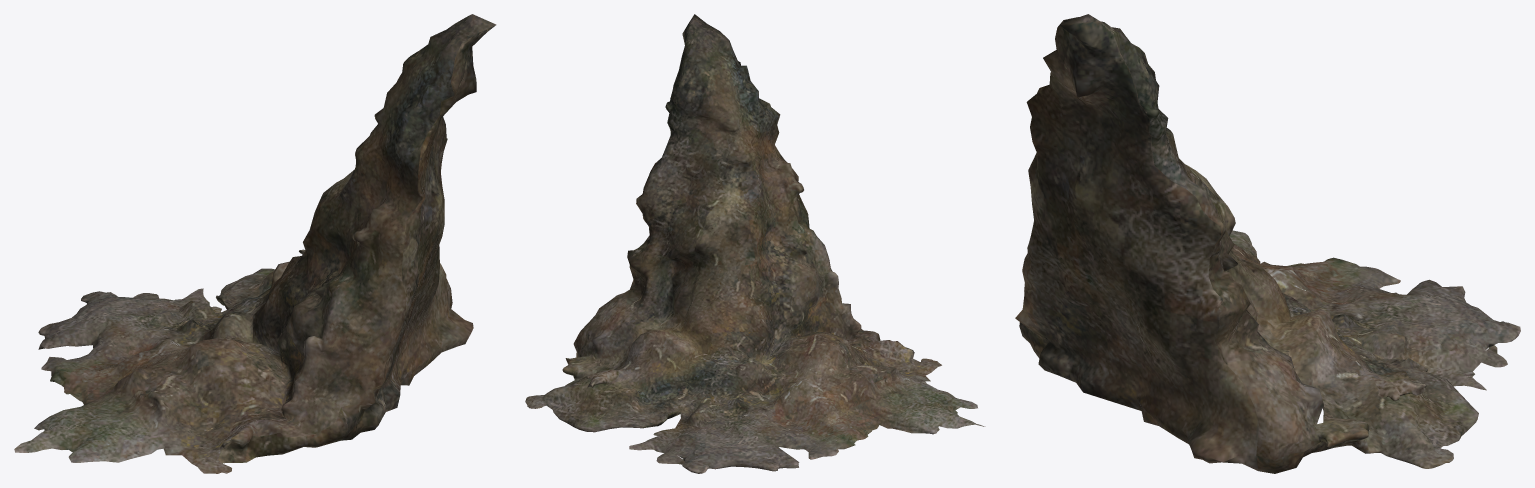
The model's file is sm20_015_filth01a.fbx.
3 views of the same model, side by side, from view 1: azimuth 30°, elevation 25°; view 2: azimuth 150°, elevation 25°; view 3: azimuth 270°, elevation 25° (orthographic). The views are drawn at different scales.
Parts seen in each view (by area): view 1: LOD_1_Group_0_Sub_1__sm20_015_Filth01A_A_Mat__Env_AlphaTest; view 2: LOD_1_Group_0_Sub_1__sm20_015_Filth01A_A_Mat__Env_AlphaTest; view 3: LOD_1_Group_0_Sub_1__sm20_015_Filth01A_A_Mat__Env_AlphaTest.
Part boxes in pixels (bbox=[...]): LOD_1_Group_0_Sub_1__sm20_015_Filth01A_A_Mat__Env_AlphaTest: bbox=[14, 14, 496, 473]; LOD_1_Group_0_Sub_1__sm20_015_Filth01A_A_Mat__Env_AlphaTest: bbox=[525, 14, 985, 473]; LOD_1_Group_0_Sub_1__sm20_015_Filth01A_A_Mat__Env_AlphaTest: bbox=[1015, 14, 1520, 473].
Bounding box in the file's own units: 2.67 × 2.06 × 2.19.
